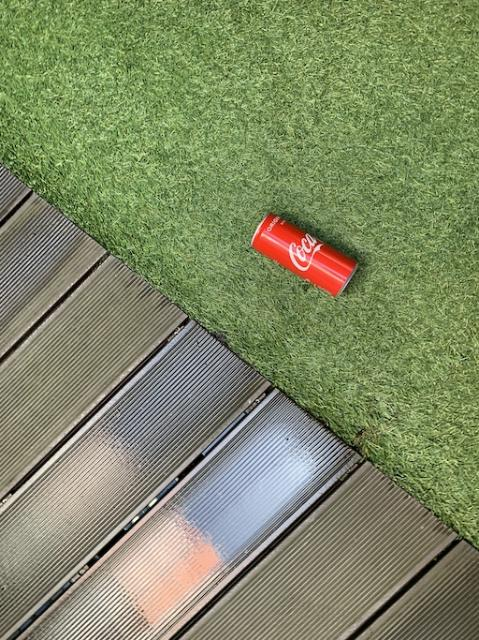metal: (253, 214, 356, 296)
